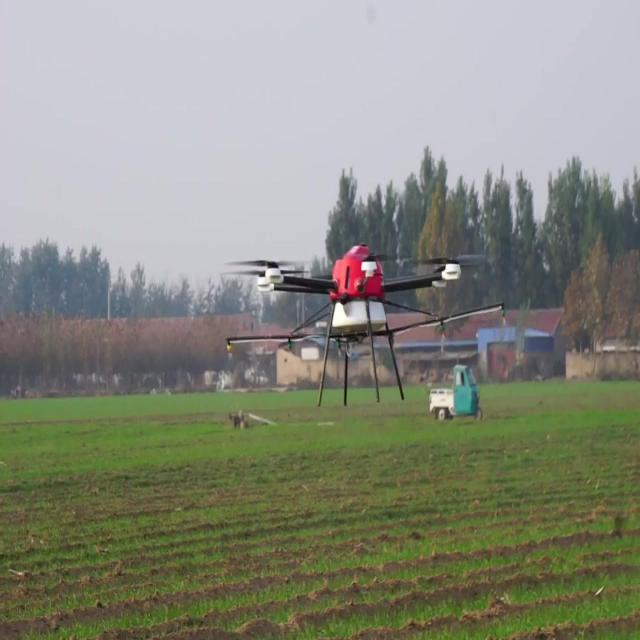UAV: (225, 242, 505, 408)
